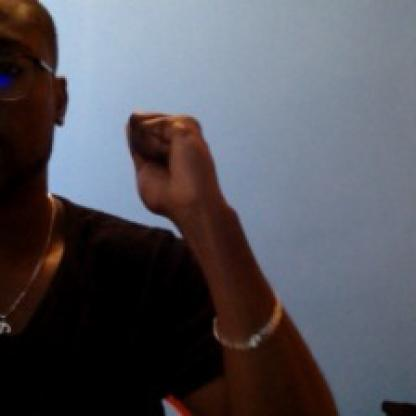BACKWARD: (109, 92, 250, 247)
